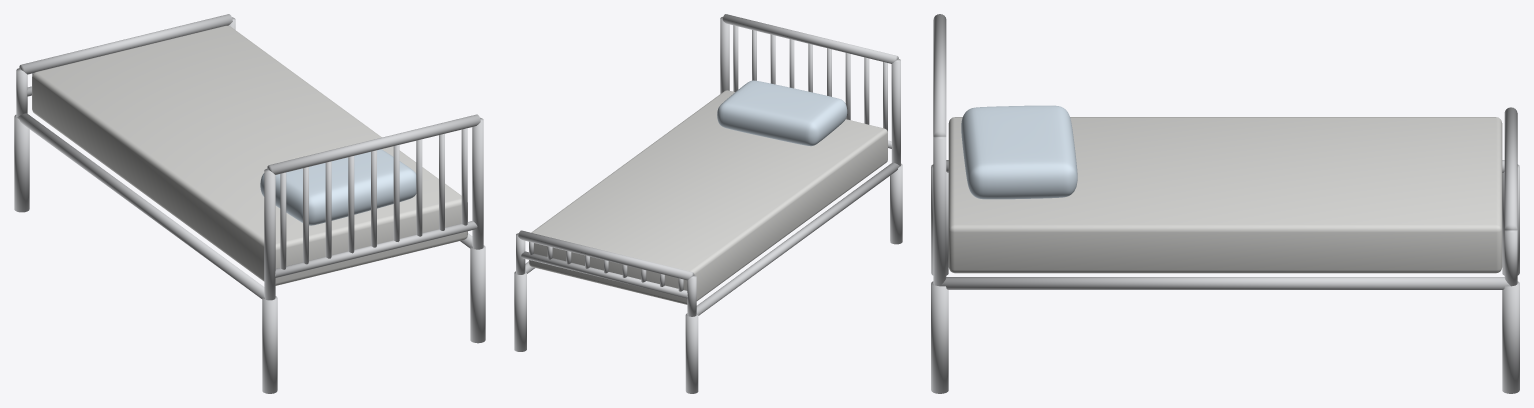
The model's file is prisonbed.glb.
3 renders of one model, left to right at view 1: azimuth 30°, elevation 25°; view 2: azimuth 150°, elevation 25°; view 3: azimuth 270°, elevation 25°, orthographic. The views are drawn at different scales.
Visible parts, largest first — view 1: Mattress, BedFrame, Pillow; view 2: Mattress, BedFrame, Pillow; view 3: Mattress, BedFrame, Pillow.
Boxes of the visible parts, bbox=[...] form: Mattress: bbox=[32, 25, 467, 285]; BedFrame: bbox=[14, 14, 485, 393]; Pillow: bbox=[260, 149, 416, 225]; Mattress: bbox=[529, 90, 887, 304]; BedFrame: bbox=[514, 14, 902, 393]; Pillow: bbox=[717, 80, 847, 146]; Mattress: bbox=[948, 117, 1502, 273]; BedFrame: bbox=[931, 14, 1519, 393]; Pillow: bbox=[961, 105, 1077, 199].
Bounding box in the file's own units: 1 × 0.972 × 2.
